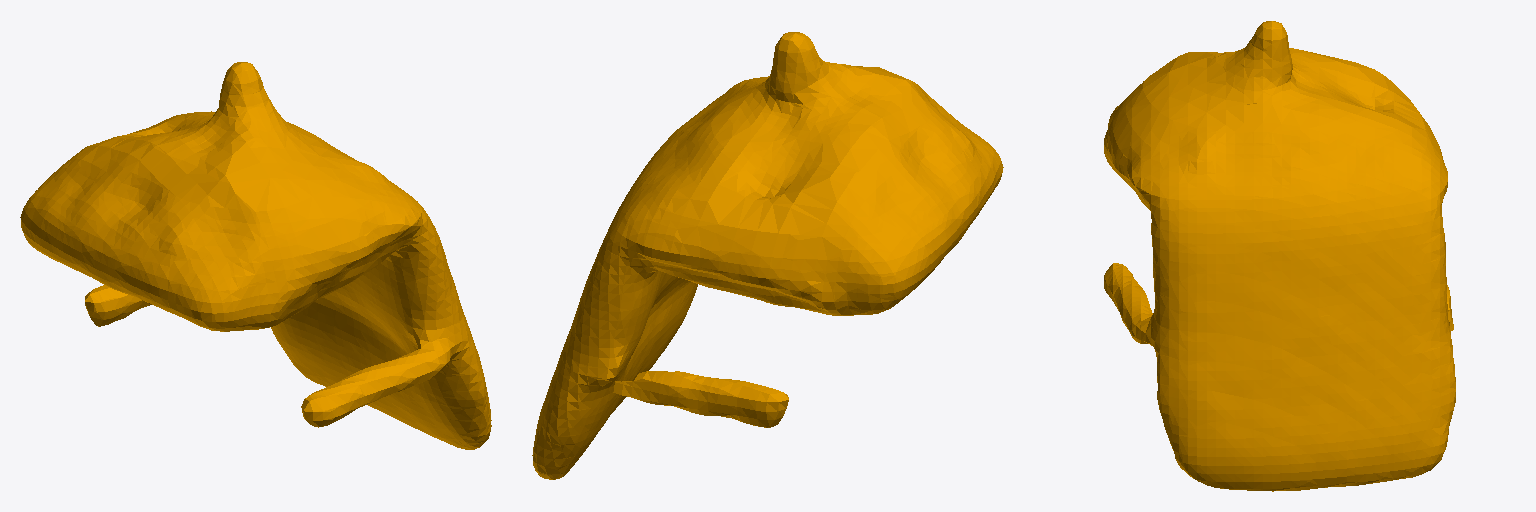
robot.urdf — broom_model:
<robot name="broom_model">
  <link name="broom_body">
    <inertial>
      <mass value="0.1" />
      <origin xyz="0 0 -.25" />
      <inertia  ixx="1.0" ixy="1.0"  ixz="1.0"  iyy="1.0"  iyz="1.0"  izz="1.0" />
    </inertial>
    <visual>
      <!-- visual origin is defined w.r.t. link local coordinate system -->
      <origin xyz="0 0 0" rpy="3.1416 0 0" />
      <geometry>
        <mesh filename="package://meshlab/sample/object3mesh.stl"/>
      </geometry>
    </visual>
    <collision>
      <!-- collision origin is defined w.r.t. link local coordinate system -->
      <origin xyz="0 0 0" rpy="3.1416 0 0" />
      <geometry>
        <mesh filename="package://meshlab/sample/object3mesh.stl"/>
      </geometry>
    </collision>
  </link>
  <gazebo reference="broom_body">
    <material>Gazebo/LightWood</material>
    <turnGravityOff>true</turnGravityOff>
  </gazebo>
</robot>

--- Facts derived from the render (not from the file) ---
Views: 3 orthographic renders of the robot side by side, from view 1: azimuth 30°, elevation 25°; view 2: azimuth 150°, elevation 25°; view 3: azimuth 270°, elevation 25°.
Robot: broom_model — 1 links, 0 joints (none); root link broom_body; default pose: all joints at 0.
Links seen in each view (by area): view 1: broom_body; view 2: broom_body; view 3: broom_body.
Boxes of the visible links, x1,y1,x2,y2 form: broom_body: (20, 62, 491, 449); broom_body: (532, 32, 1003, 479); broom_body: (1104, 21, 1455, 491).
Bounding box of the posed robot: 0.723 × 0.6375 × 0.7653 m (x, y, z).
Meshes: 1 distinct files referenced, 1 mesh visuals loaded (1 binary STL).
